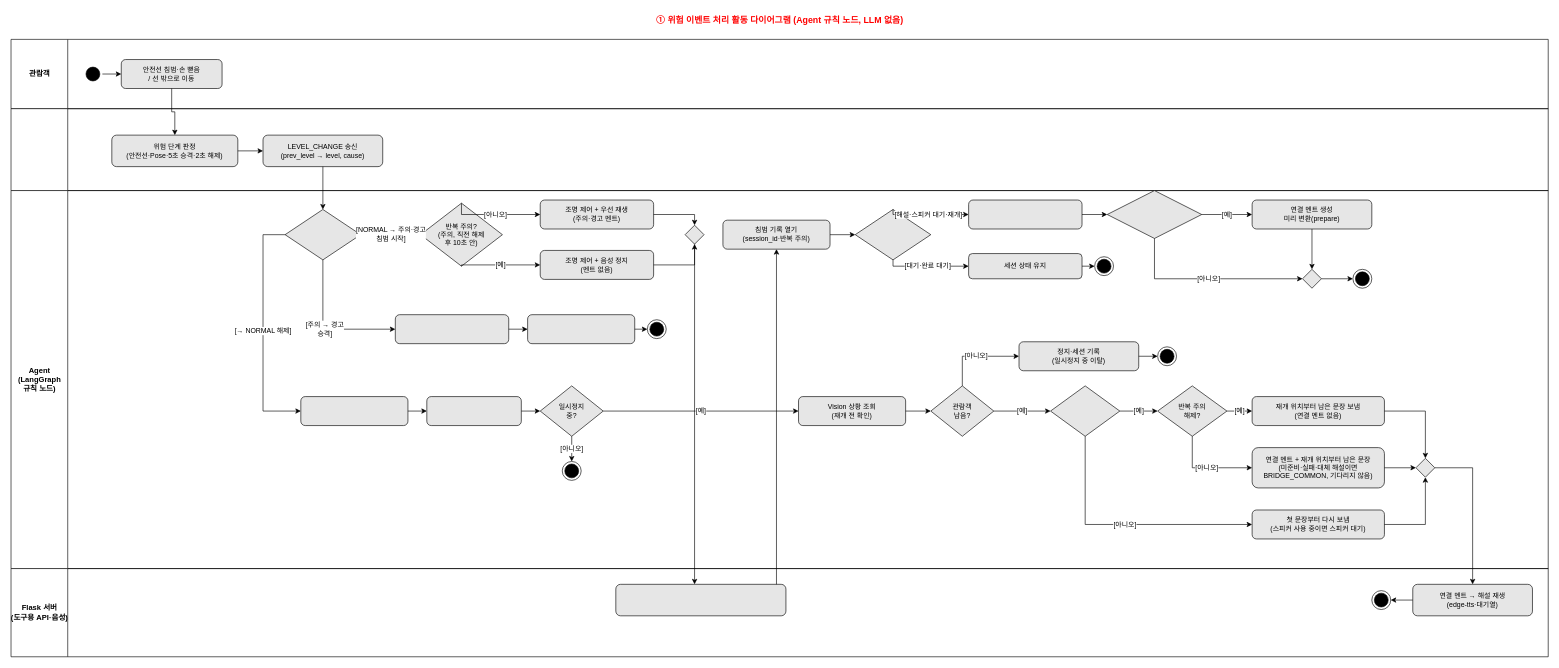
Image size: 1559x668. Some labels were removed from this diagram. The box of each missing label's shape, as (x1, y1, x2, y2) in pixels:
CV 모듈: (10, 108, 1548, 191)
가상 조명 색 변경·멘트 재생 또는 정지 (요청 구역 대기열 비움), 끊긴 문장 번호 응답: (615, 584, 786, 616)
단계 변화?: (284, 209, 361, 260)
반복 주의 아님 + 재생한 문장 있음?: (1107, 190, 1202, 238)
세션 상태?: (855, 209, 931, 260)
재개 위치 저장 일시정지 전이: (968, 199, 1082, 229)
재생한 문장 있음?: (1050, 385, 1120, 436)
조명 NORMAL + 침범 기록 닫기: (300, 396, 408, 426)
조명 WARNING + 경고 멘트 우선 재생: (395, 314, 509, 344)
침범 기록 갱신 (max_level·cause): (527, 314, 635, 344)
해제 시각 저장 (반복 주의 판단용): (426, 396, 521, 426)
